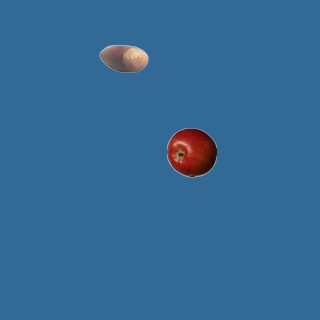Apple Braeburn: (166, 127, 216, 177)
Hazelnut: (98, 33, 148, 83)
